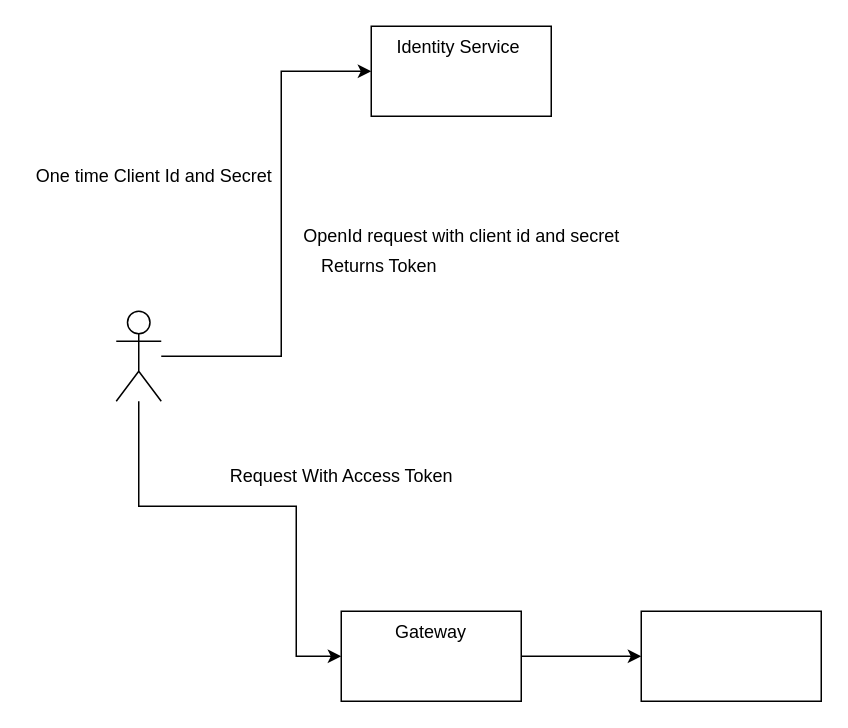
Some shapes in this 848 by 728 pixel diagram are drawn without their labels. The shapes that lost their labels are listed below. From the top down, each one's centre as x and y in pixels, then its label:
(138,355): Actor
(730,655): Admin Service APIs
